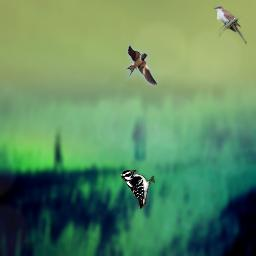Cuckoo: (214, 5, 247, 45)
Swallow: (122, 45, 158, 85)
Woodpecker: (121, 170, 155, 210)
